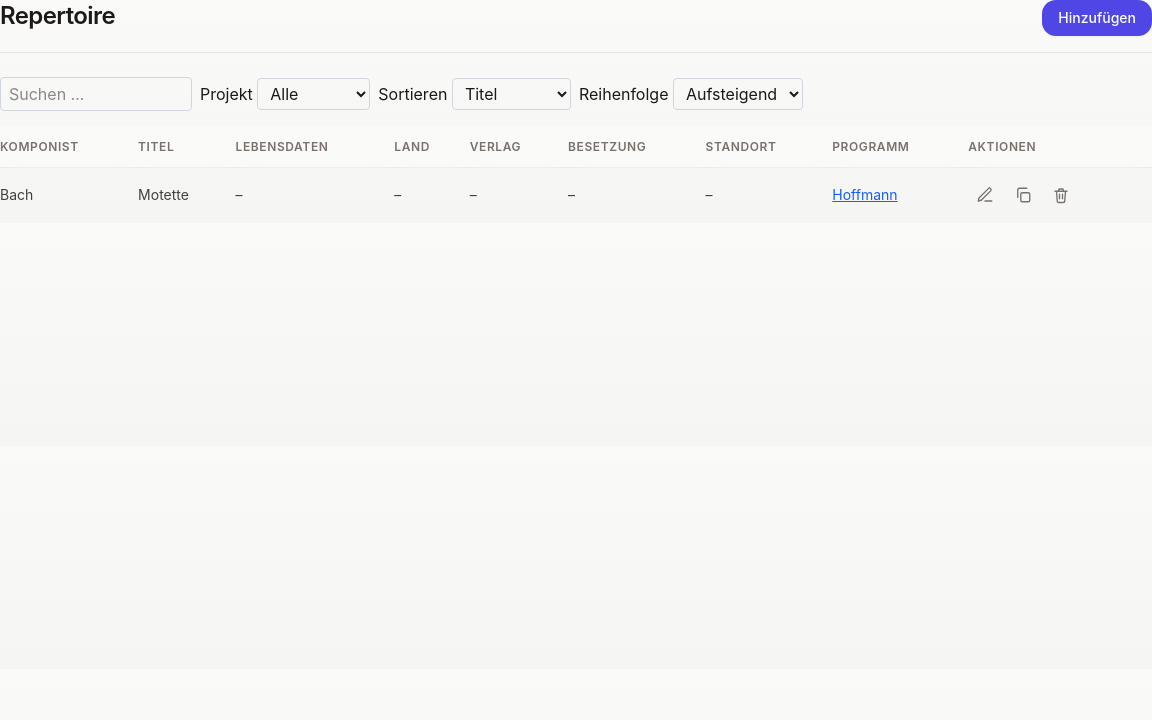
RepertoirePage › renders entries and creates one
Expected: the text "Motette" is shown, 138,168 -> 236,222
Click the button "Hinzufügen".
click(1097, 18)  # box 1042,0 -> 1151,36
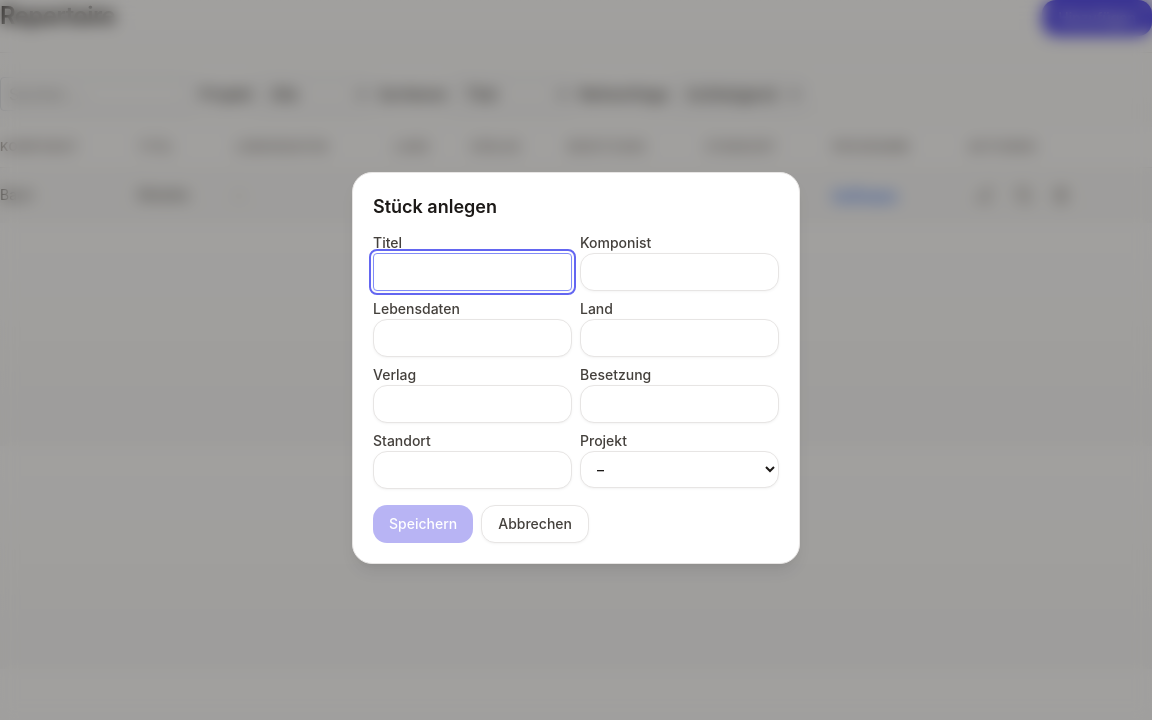
Type "Messe" into the field labelled "Titel".
click(472, 272); type("Messe")  # box 373,253 -> 572,291
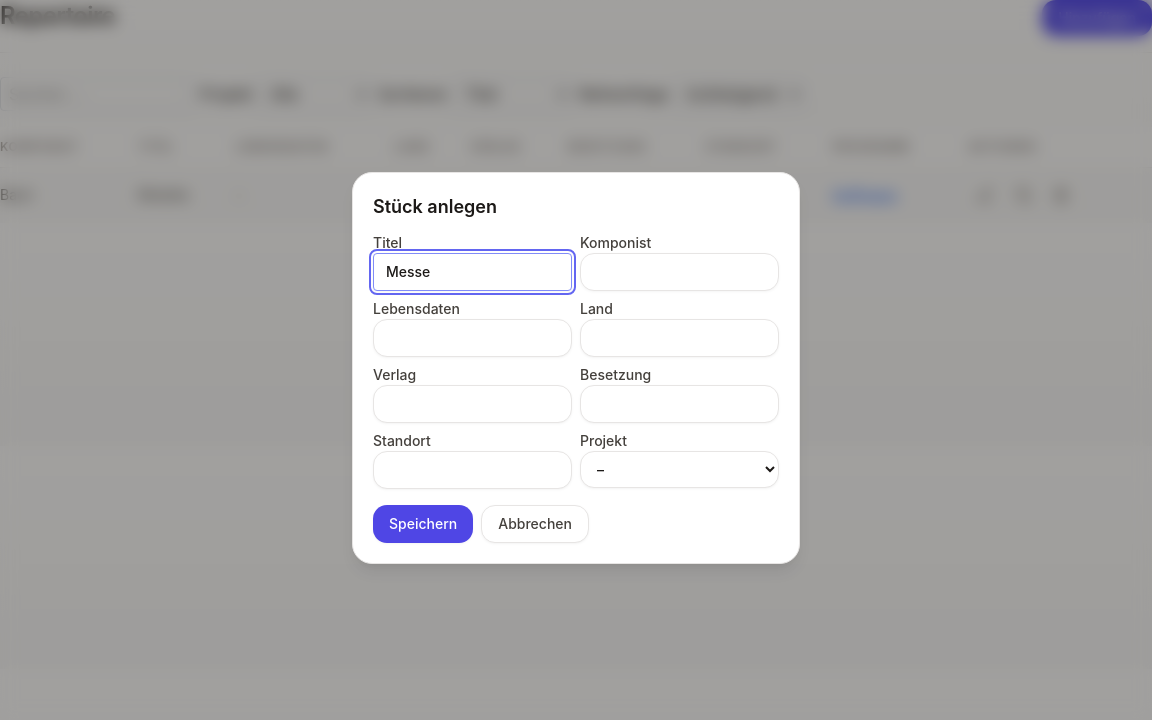
Click the button "Speichern".
click(423, 524)  # box 373,505 -> 473,543
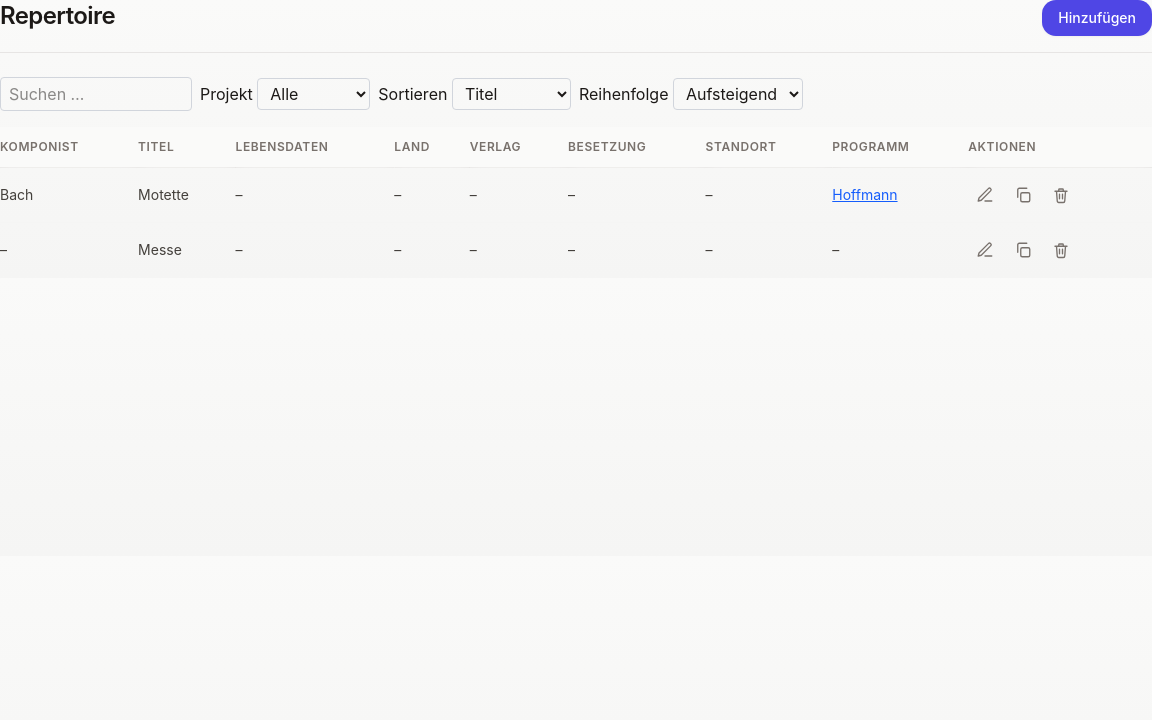
Expected: the text "Messe" is shown, 138,222 -> 236,278
